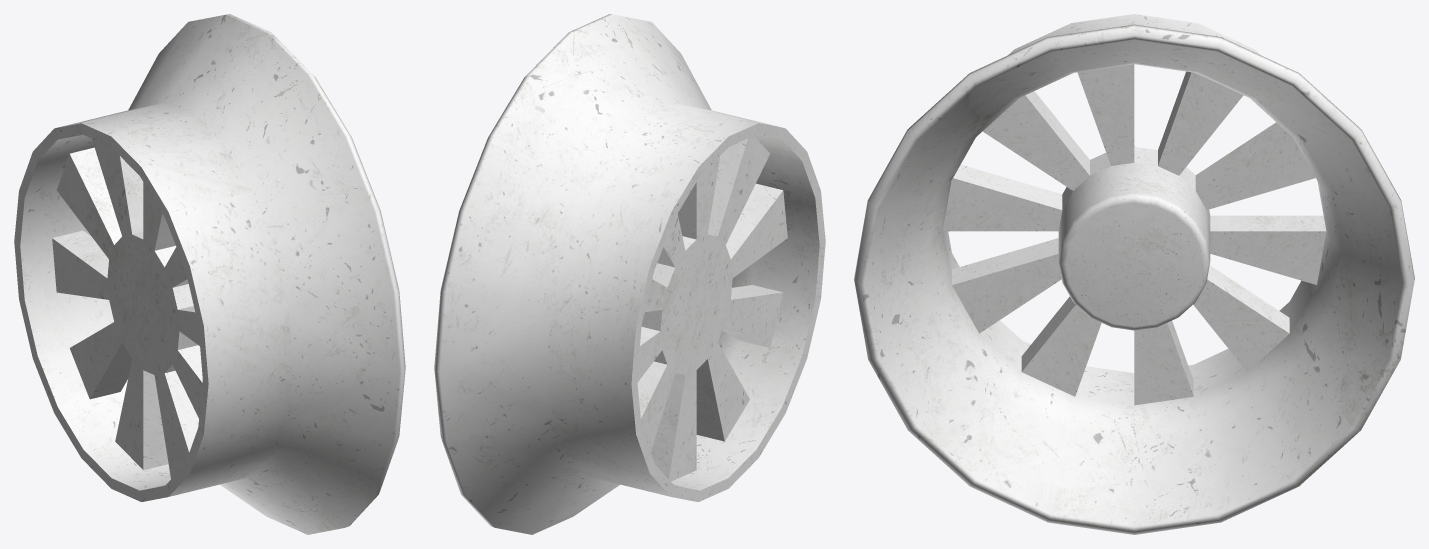
The model's file is SM_AC_Unit_C_Cover.glb.
3 views of the same model, side by side, from view 1: azimuth 30°, elevation 25°; view 2: azimuth 150°, elevation 25°; view 3: azimuth 270°, elevation 25° (orthographic). The views are drawn at different scales.
Parts seen in each view (by area): view 1: SM_AC_Unit_C_Cover; view 2: SM_AC_Unit_C_Cover; view 3: SM_AC_Unit_C_Cover.
Boxes of the visible parts, <box> form: SM_AC_Unit_C_Cover: <box>14,14,405,534</box>; SM_AC_Unit_C_Cover: <box>434,14,825,534</box>; SM_AC_Unit_C_Cover: <box>854,14,1414,534</box>.
Size of the model in its own units: 0.195 by 0.5491 by 0.5491.
1 material, 1 textured.
